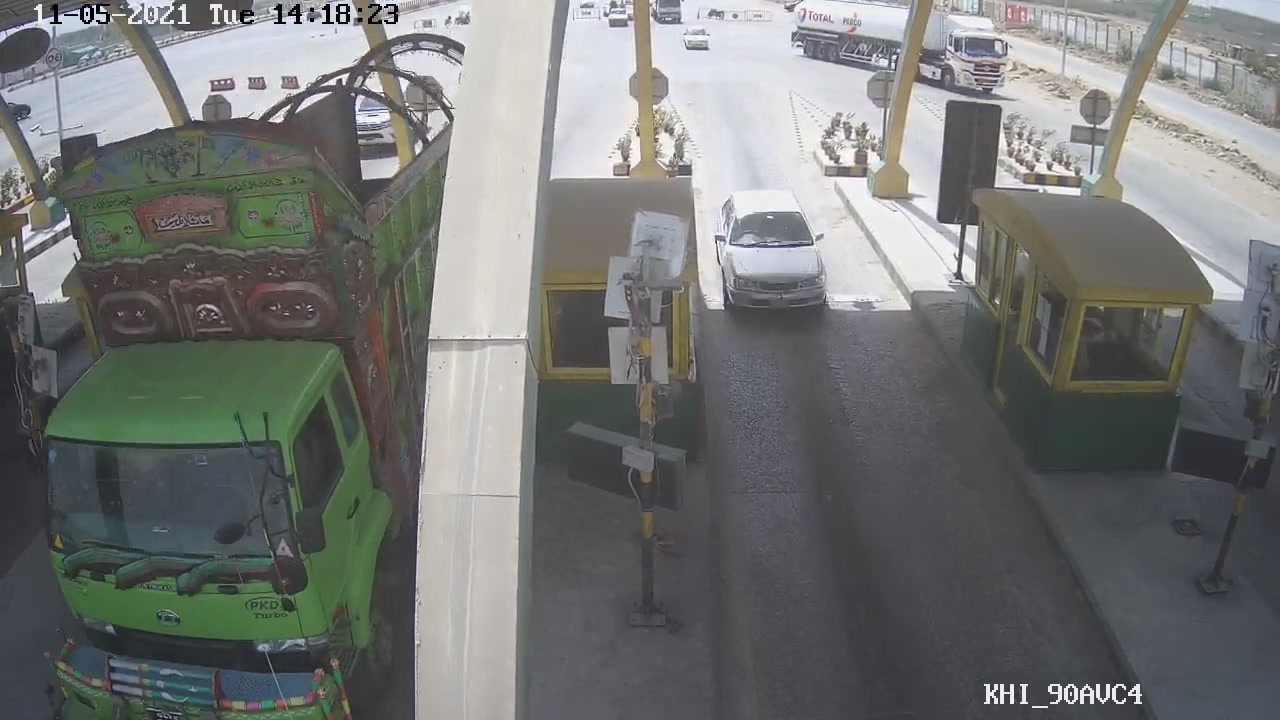F1: (712, 185, 831, 312)
